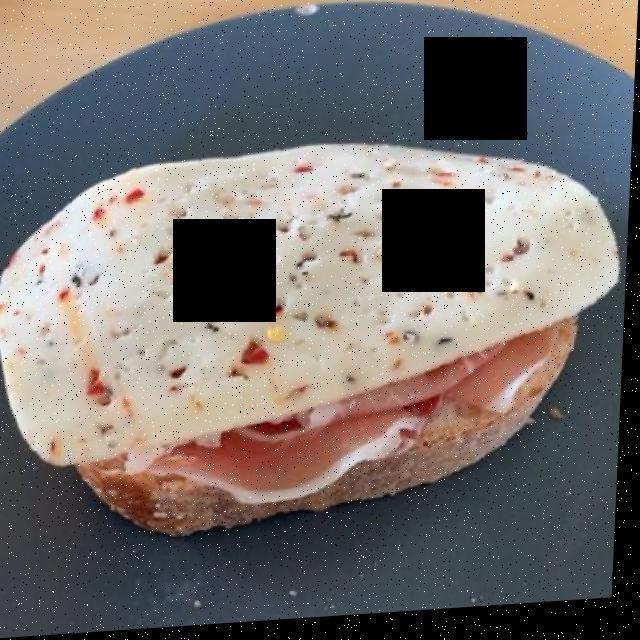bread: (90, 358, 580, 534)
ham: (107, 332, 563, 503)
